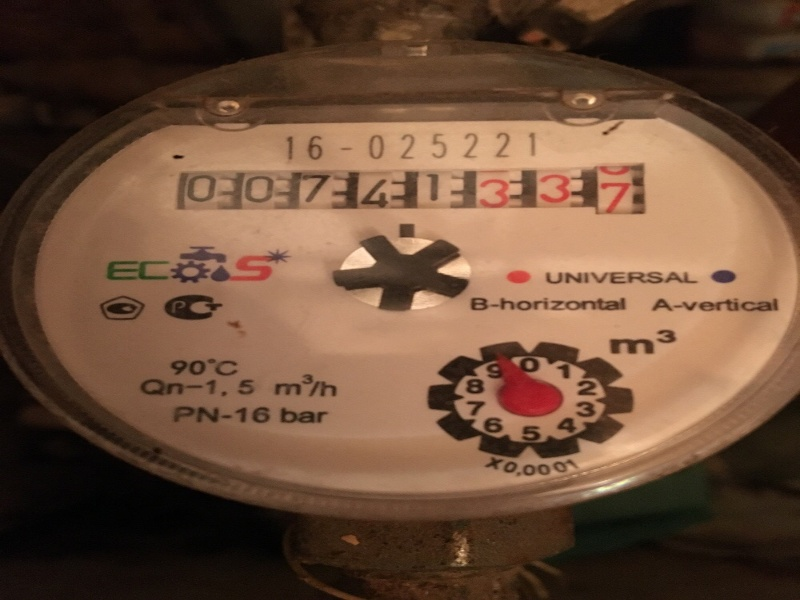meter: (173, 162, 651, 228)
